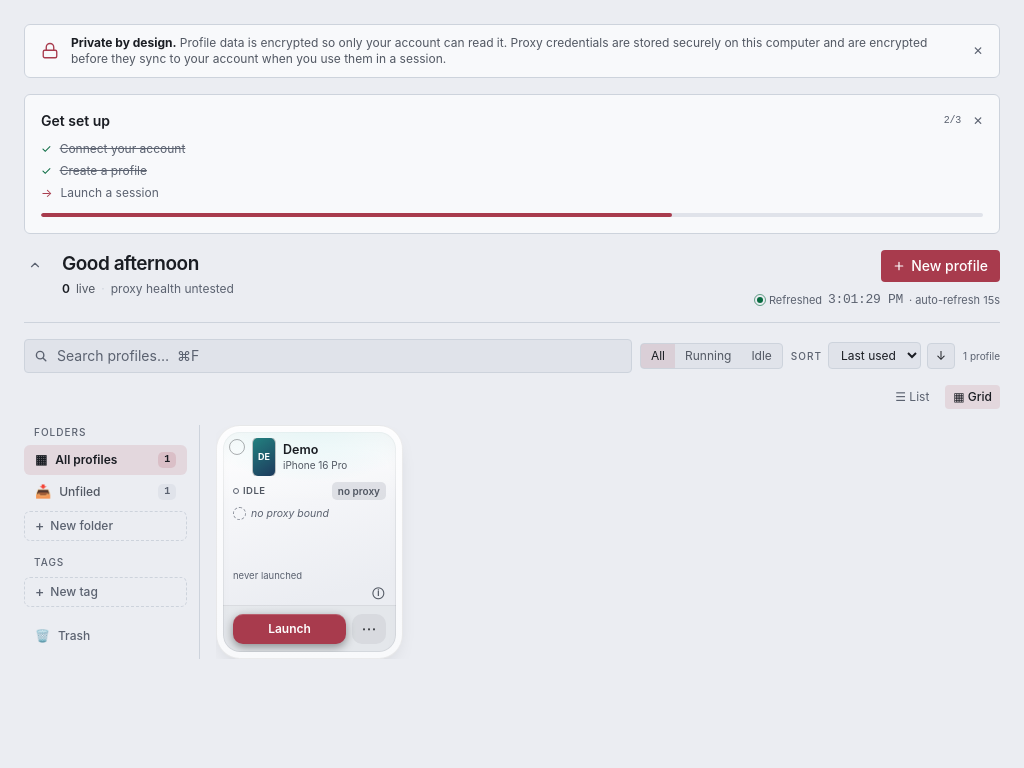
Scenario: ProfilesView list-load retry › keeps a user-action error dismiss-only across a successful list refresh
Click the button named "More actions" at [369, 628], box [352,614,386,644]
(page scrolled)
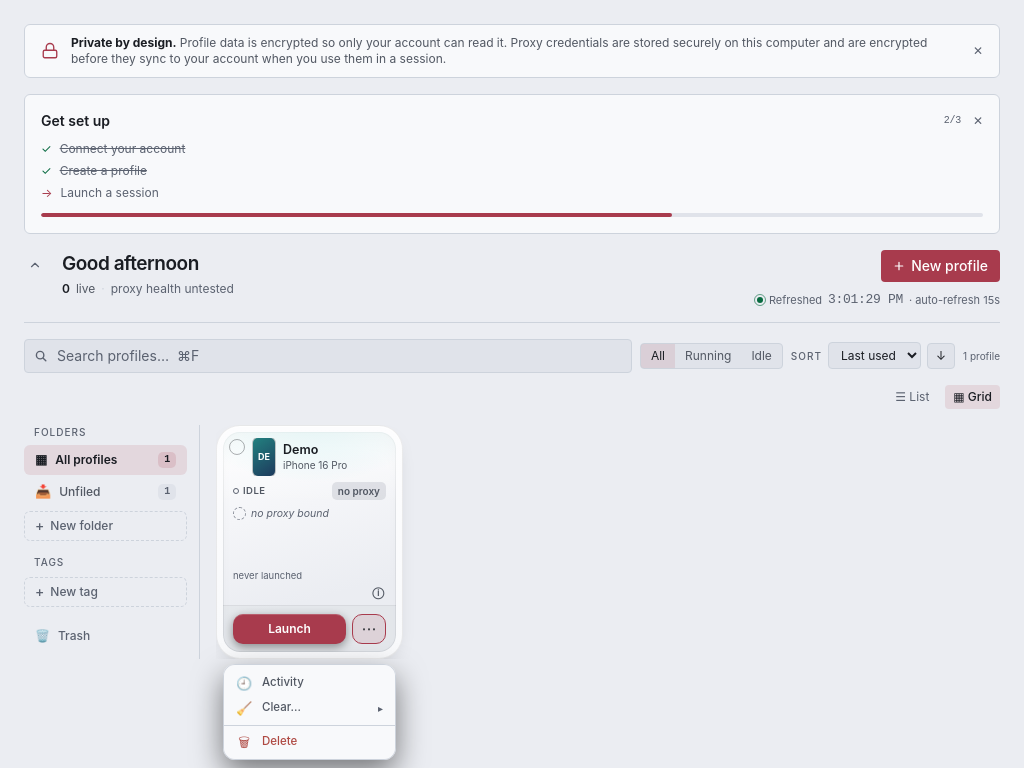
Click the button with aria-label "Delete Demo" at [310, 742], box [224,730,395,754]
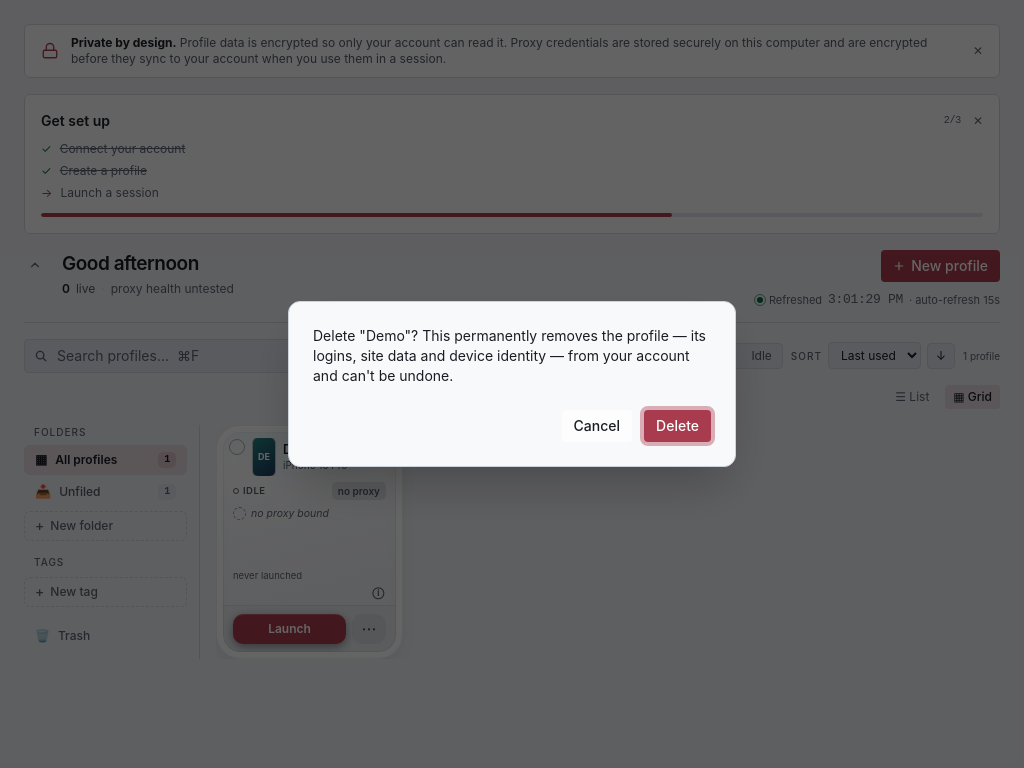
Click the button "Delete" at [678, 426], box [644,410,711,442]
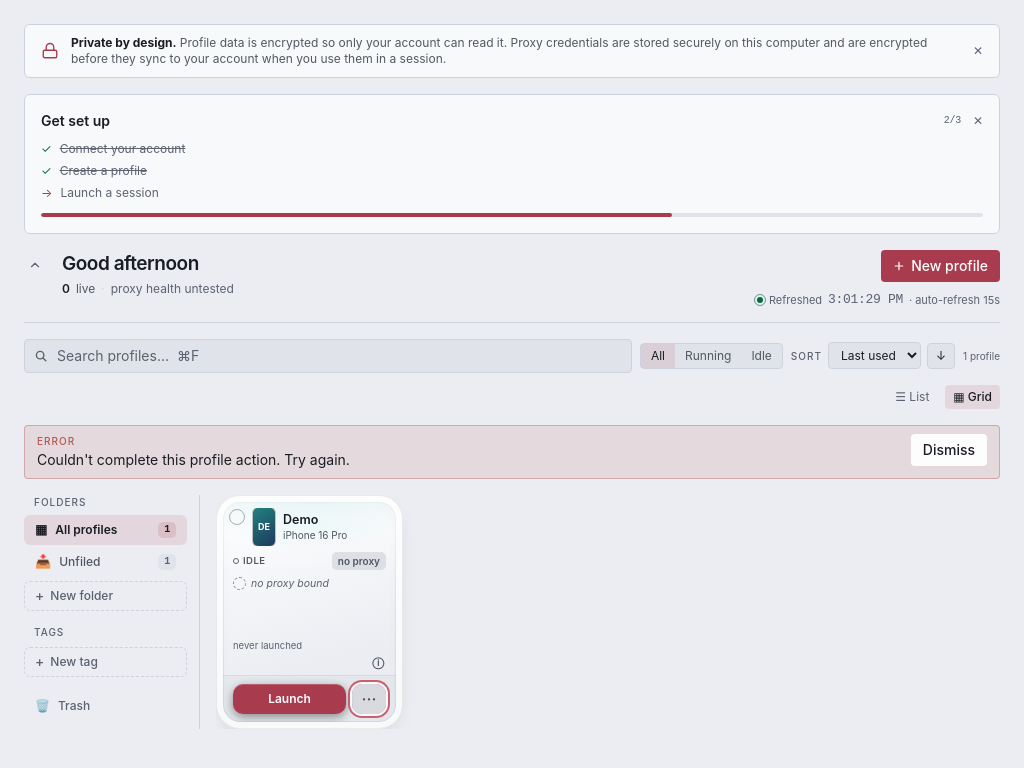
Result: the text "Couldn't complete this profile action. Try again." is shown at [37,450,350,470]
Click the button titled "Refresh now" at [878, 300], box [757,290,1000,310]
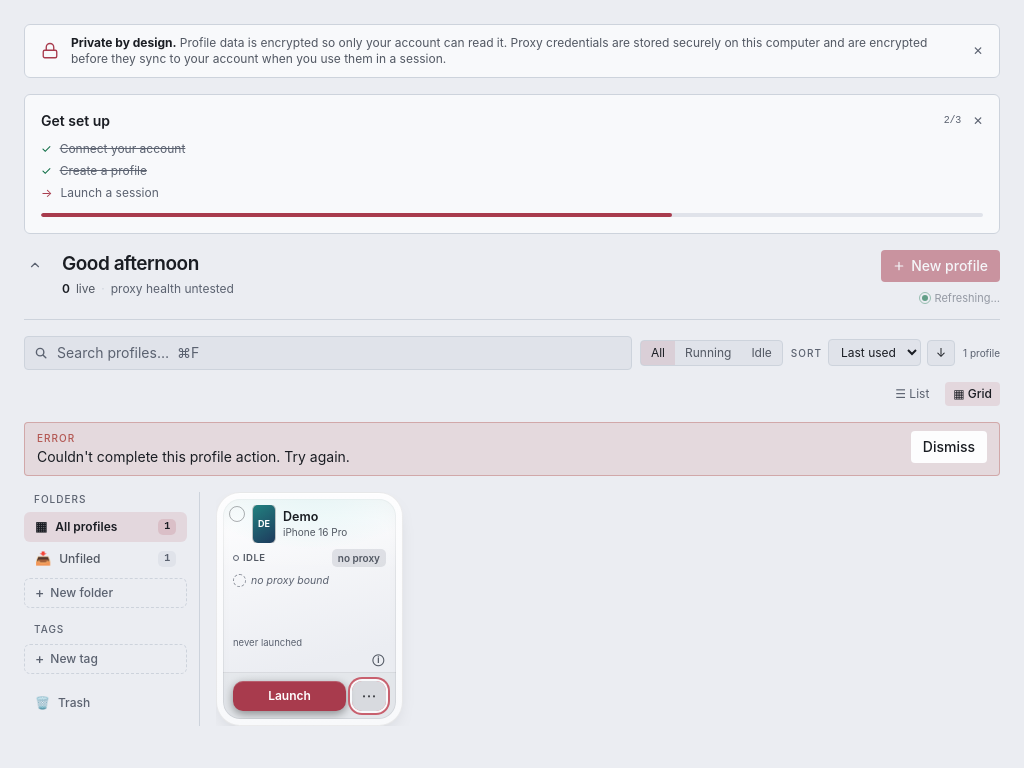
Result: the text "Couldn't complete this profile action. Try again." is shown at [37,446,350,466]
Click the button "Dismiss" at [949, 446], box [911,430,987,462]
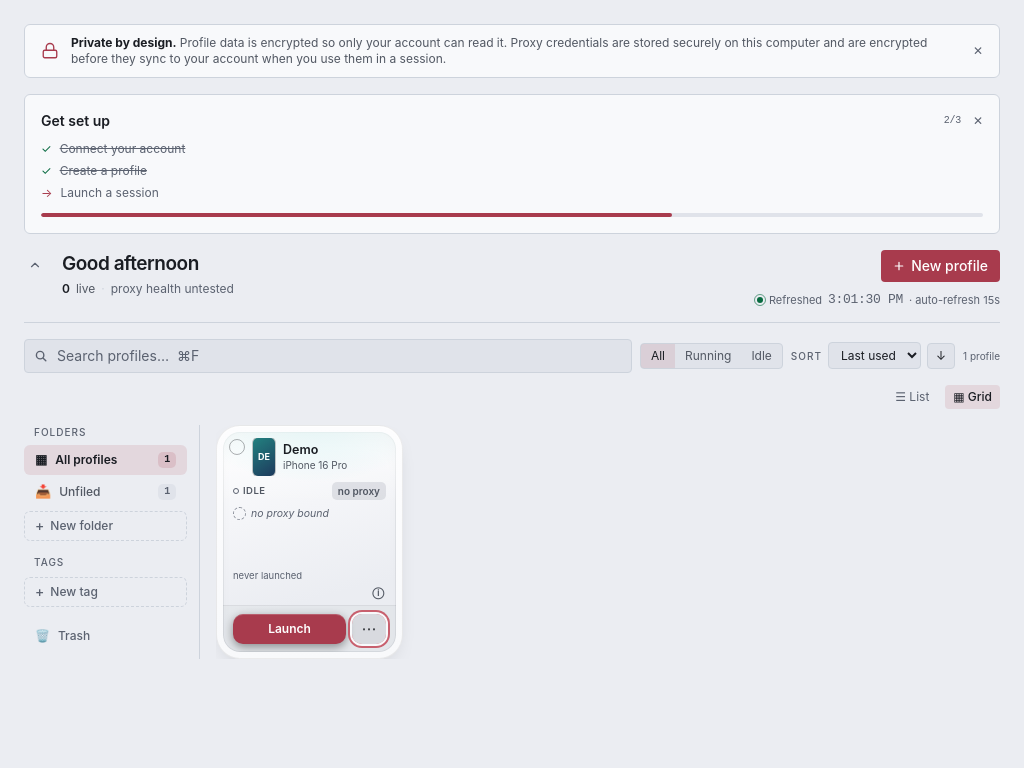
Result: the text "Couldn't complete this profile action. Try again." is gone
